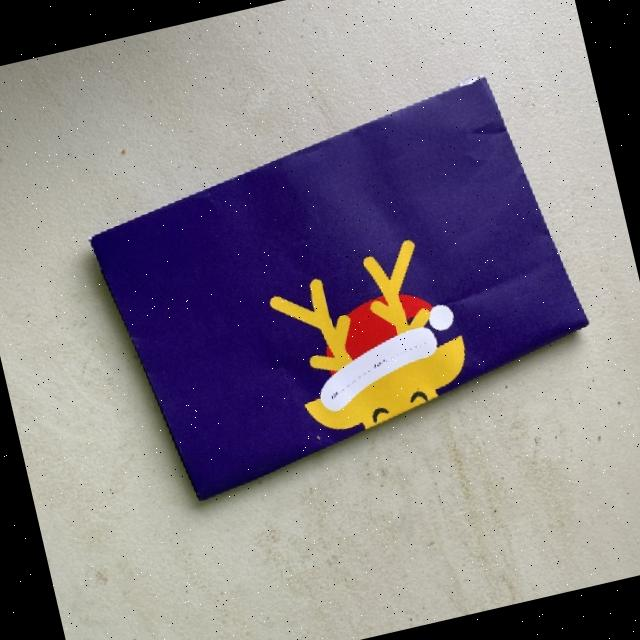paper: (72, 62, 608, 512)
